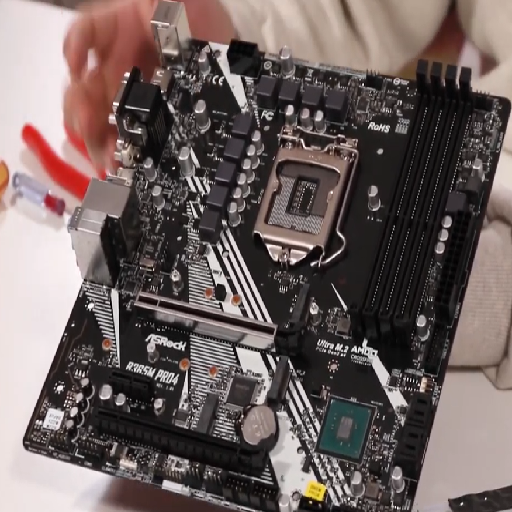CPU: (245, 107, 361, 272)
GPU: (88, 400, 275, 476), (124, 288, 284, 353)
MOTHERBOARD: (24, 3, 508, 512)
RAM: (350, 56, 473, 354)
SSD: (278, 281, 323, 342), (259, 357, 298, 405)
